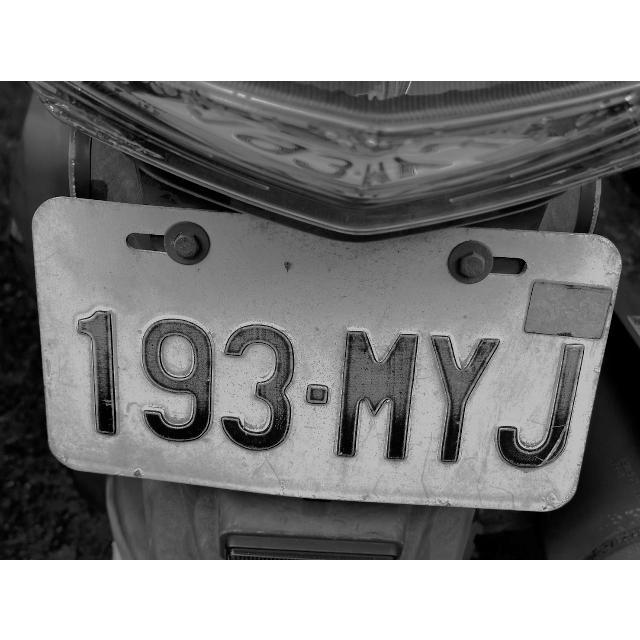-: (301, 377, 331, 415)
1: (70, 304, 126, 444)
3: (220, 320, 296, 452)
9: (136, 306, 216, 446)
J: (490, 334, 589, 484)
M: (332, 323, 426, 472)
Y: (427, 331, 506, 477)
